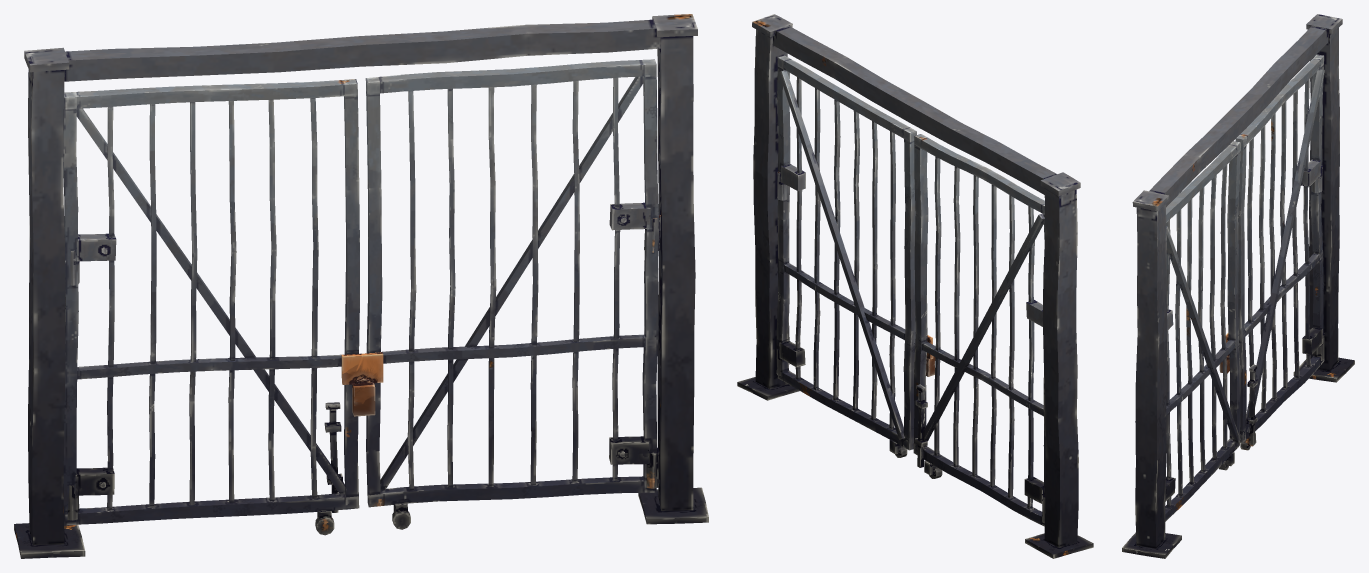
The picture shows the model from 3 angles, left to right: view 1: azimuth 30°, elevation 25°; view 2: azimuth 150°, elevation 25°; view 3: azimuth 270°, elevation 25°; orthographic projection. The views are drawn at different scales.
Parts seen in each view (by area): view 1: Doors, Frame, Hardware, Padlock; view 2: Doors, Frame, Hardware; view 3: Doors, Frame, Hardware.
Part boxes in pixels (<box>): Doors: <box>63,59,659,525</box>; Frame: <box>24,14,697,545</box>; Hardware: <box>14,202,708,558</box>; Padlock: <box>341,352,383,416</box>; Doors: <box>776,55,1045,526</box>; Frame: <box>752,14,1080,547</box>; Hardware: <box>737,164,1093,558</box>; Doors: <box>1165,54,1324,521</box>; Frame: <box>1132,14,1342,548</box>; Hardware: <box>1122,159,1354,558</box>.
Bounding box in the file's own units: 12.68 × 10.3 × 6.19.
4 materials, 4 textured.
